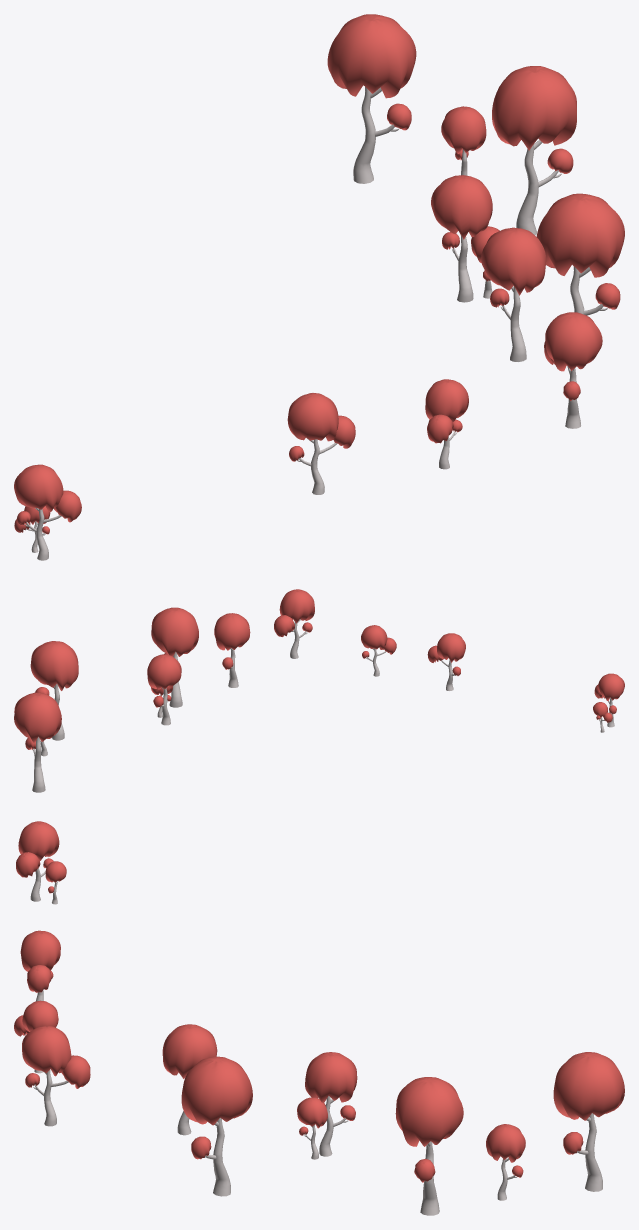
Rendered from red_tree.fbx.
The picture shows the model from 3 angles, top to bottom: view 1: azimuth 30°, elevation 25°; view 2: azimuth 150°, elevation 25°; view 3: azimuth 270°, elevation 25°; orthographic projection. The views are drawn at different scales.
Parts seen in each view (by area): view 1: rt03_Leaves, rt12_Leaves, rt10_Leaves, rt04_Leaves, rt08_Leaves, rt05_Leaves, rt01_Leaves, rt06_Leaves, rt02_Leaves, rt11_Leaves, rt03_Branches1, rt12_Branches1 (+1 smaller); view 2: rt03_Leaves, rt12_Leaves, rt10_Leaves, rt05_Leaves, rt04_Leaves, rt08_Leaves, rt01_Leaves, rt02_Leaves, rt06_Leaves, rt03_Branches1; view 3: rt03_Leaves, rt10_Leaves, rt12_Leaves, rt05_Leaves, rt08_Leaves, rt04_Leaves, rt01_Leaves, rt06_Leaves, rt11_Leaves, rt02_Leaves, rt10_Branches4, rt03_Branches1 (+2 smaller).
Part boxes in pixels (x1,y1,x2,y2): rt03_Leaves: (327, 14, 416, 130); rt12_Leaves: (492, 66, 576, 173); rt10_Leaves: (536, 193, 624, 309); rt04_Leaves: (481, 227, 546, 307); rt08_Leaves: (431, 175, 492, 249); rt05_Leaves: (544, 312, 602, 400); rt01_Leaves: (287, 393, 355, 461); rt06_Leaves: (14, 464, 81, 525); rt02_Leaves: (425, 379, 468, 443); rt11_Leaves: (441, 106, 486, 160); rt03_Branches1: (353, 87, 375, 183); rt12_Branches1: (516, 144, 538, 235); rt03_Leaves: (14, 692, 61, 749); rt12_Leaves: (30, 641, 78, 695); rt10_Leaves: (151, 607, 198, 656); rt05_Leaves: (274, 589, 314, 636); rt04_Leaves: (214, 613, 250, 669); rt08_Leaves: (147, 654, 181, 707); rt01_Leaves: (427, 633, 465, 675); rt02_Leaves: (361, 625, 396, 658); rt06_Leaves: (594, 673, 624, 714); rt03_Branches1: (32, 737, 45, 792); rt03_Leaves: (553, 1052, 624, 1154); rt10_Leaves: (181, 1056, 252, 1159); rt12_Leaves: (395, 1077, 463, 1182); rt05_Leaves: (22, 1026, 90, 1088); rt08_Leaves: (305, 1052, 357, 1120); rt04_Leaves: (162, 1024, 217, 1078); rt01_Leaves: (20, 930, 60, 992); rt06_Leaves: (16, 821, 59, 877); rt11_Leaves: (486, 1124, 525, 1177); rt02_Leaves: (14, 1000, 58, 1036); rt10_Branches4: (213, 1118, 230, 1196); rt03_Branches1: (585, 1113, 602, 1191).
Size of the model in its own units: 229 by 49 by 184.
